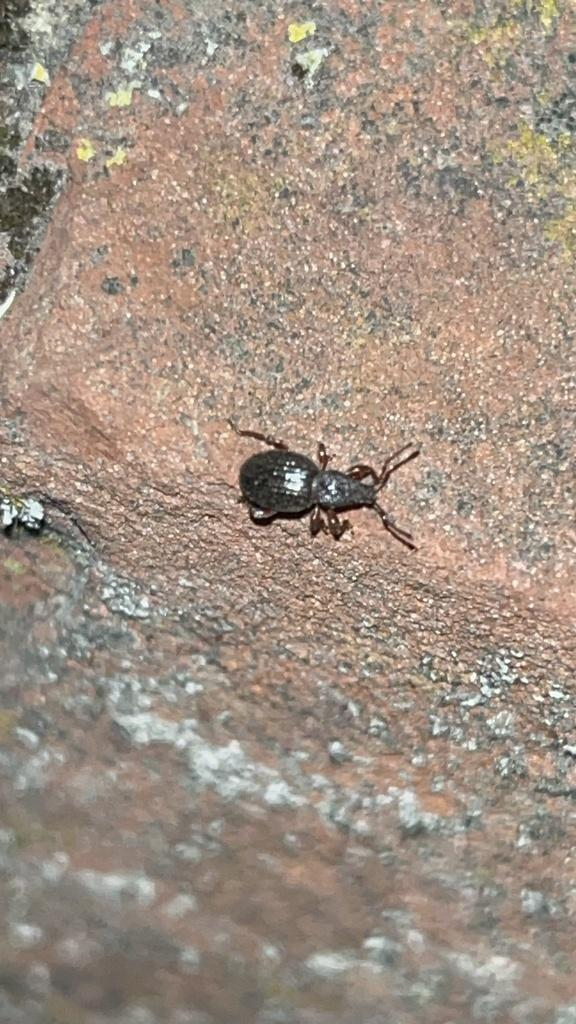weevils: (190, 383, 446, 581)
